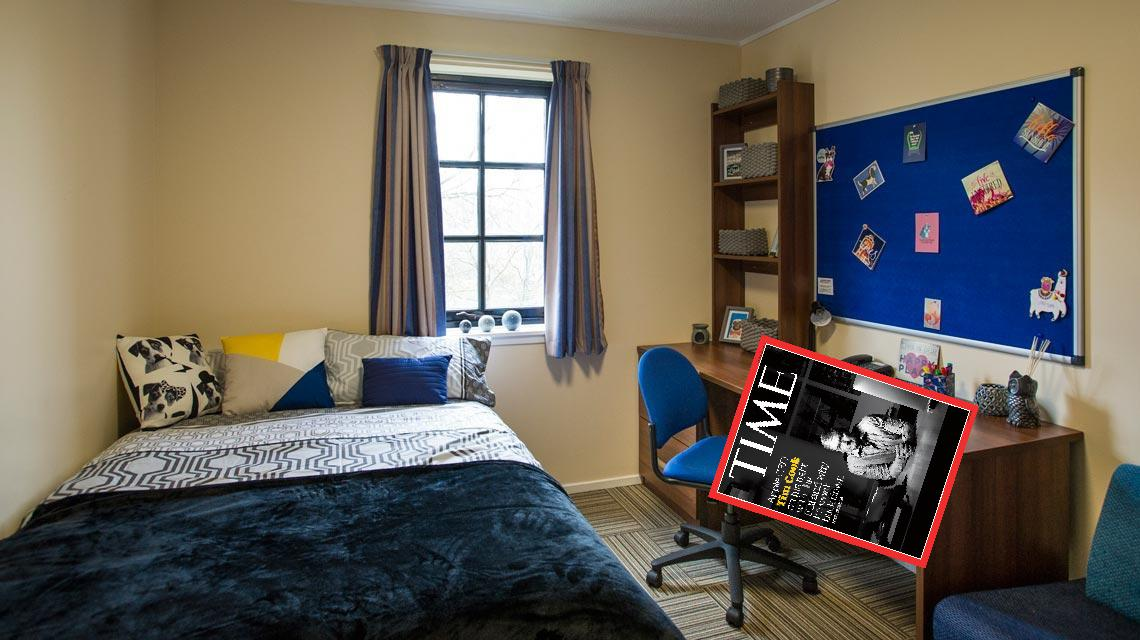times: (707, 330, 982, 571)
